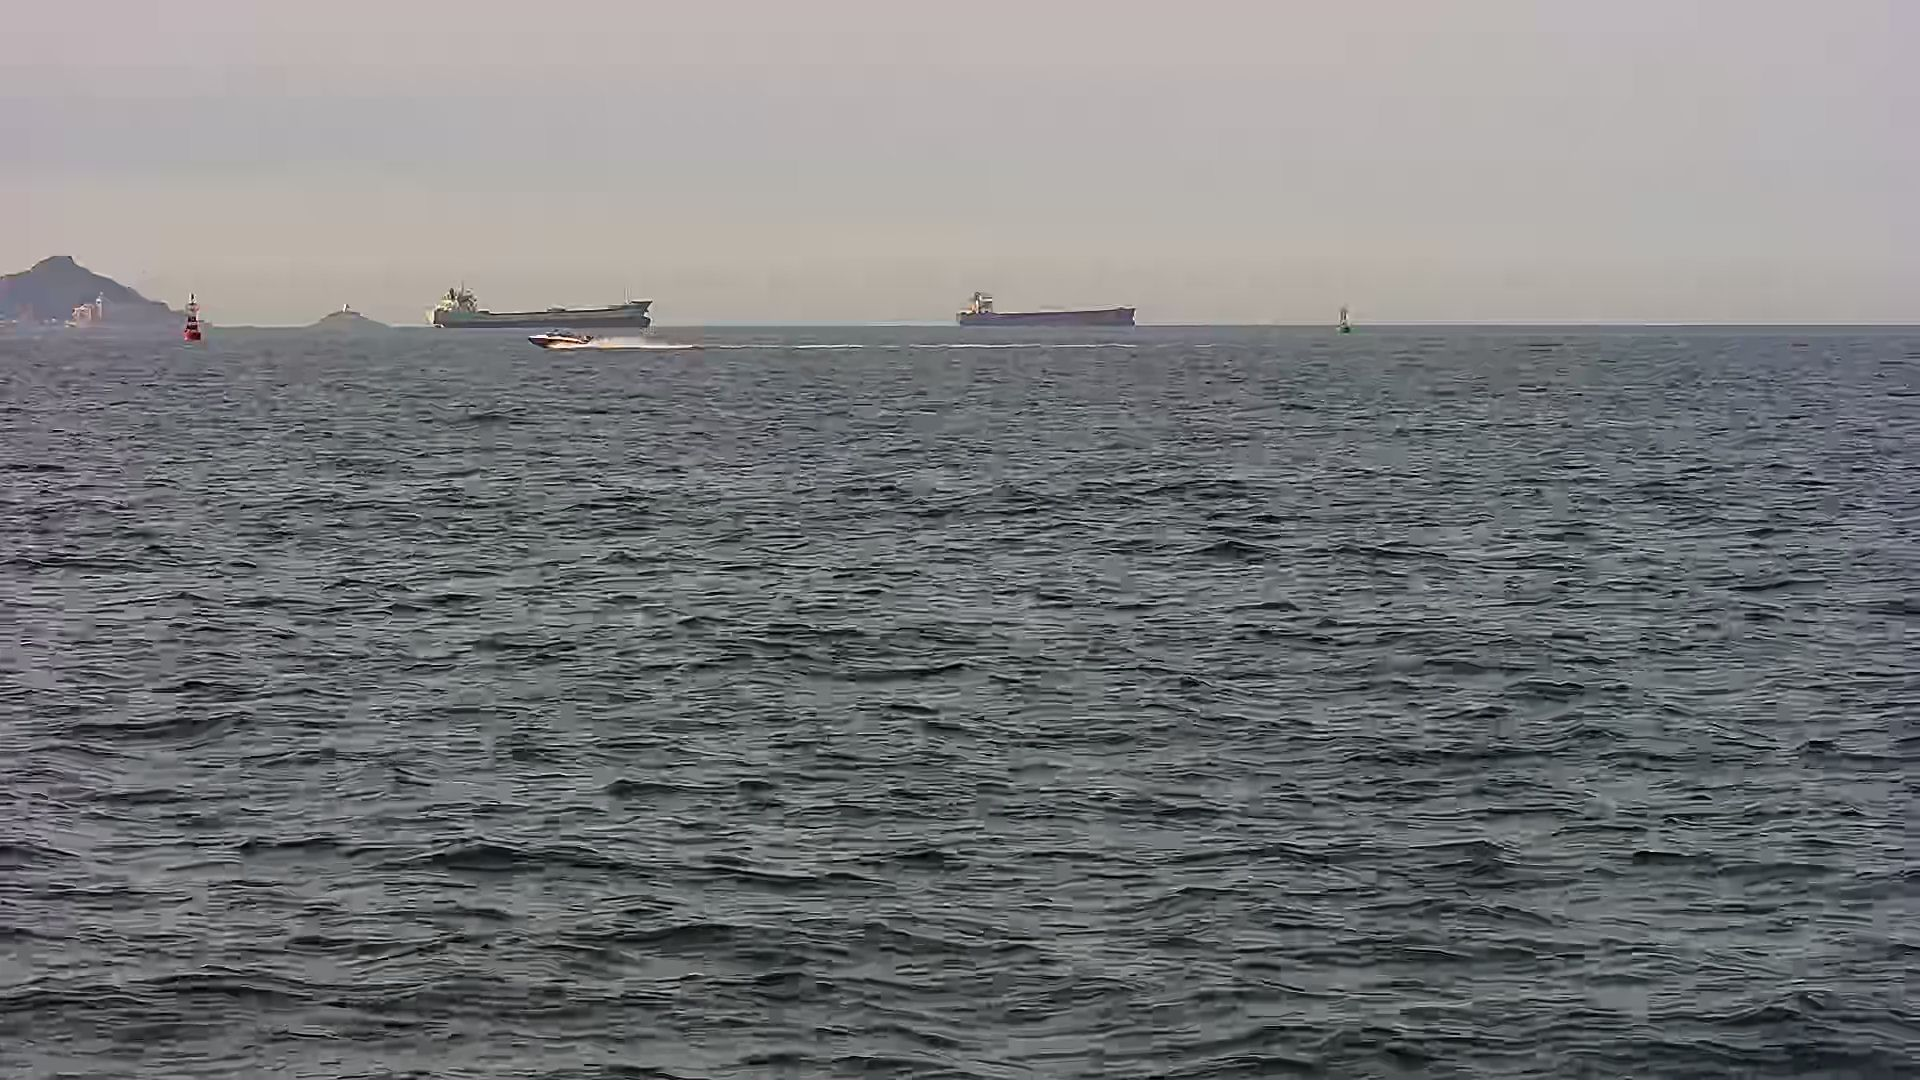boat: (518, 324, 609, 364)
buoy: (171, 286, 206, 357), (1336, 301, 1356, 342)
rock: (301, 301, 407, 353)
ship: (430, 274, 651, 340), (938, 291, 1150, 342)
